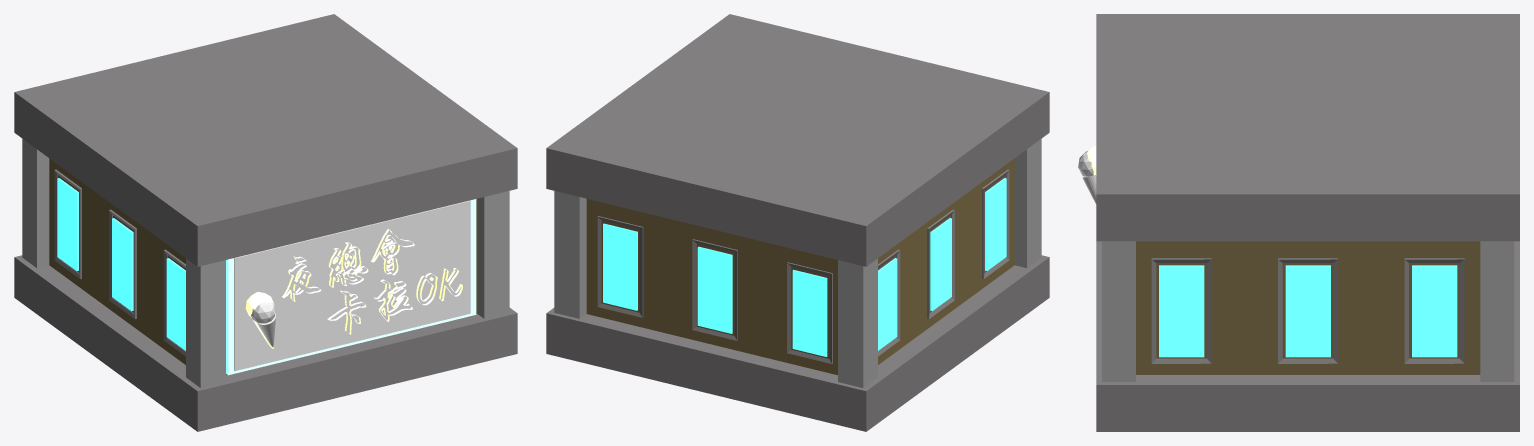
3 views of the same model, side by side, from view 1: azimuth 30°, elevation 25°; view 2: azimuth 150°, elevation 25°; view 3: azimuth 270°, elevation 25° (orthographic). The views are drawn at different scales.
Parts seen in each view (by area): view 1: Cube.014, Cube.013, Cube.004, Cube.002, Cube.016, Cube.015, Text, Cube.017, Cube.005, Cube.010, Cube.012, Cube.011; view 2: Cube.014, Cube.002, Cube.013, Cube.017, Cube, Cube.001, Cube.003, Cube.018, Cube.016, Cube.010, Cube.011, Cube.012; view 3: Cube.014, Cube.002, Cube.013, Cube.007, Cube.008, Cube.009, Cube.018, Cube.015.
Boxes of the visible parts, box(x1,y1,x2,y2) form: Cube.014: box(14, 14, 517, 266); Cube.013: box(14, 255, 517, 431); Cube.004: box(234, 200, 470, 370); Cube.002: box(49, 158, 477, 375); Cube.016: box(186, 258, 225, 387); Cube.015: box(477, 191, 509, 318); Text: box(282, 229, 462, 334); Cube.017: box(22, 139, 49, 268); Cube.005: box(226, 199, 476, 375); Cube.010: box(109, 209, 136, 319); Cube.012: box(54, 169, 81, 279); Cube.011: box(163, 249, 185, 356); Cube.014: box(546, 14, 1049, 266); Cube.002: box(586, 158, 1014, 375); Cube.013: box(546, 255, 1049, 431); Cube.017: box(838, 258, 877, 387); Cube: box(597, 216, 643, 317); Cube.001: box(787, 262, 832, 363); Cube.003: box(692, 239, 737, 340); Cube.018: box(554, 191, 586, 318); Cube.016: box(1014, 139, 1041, 268); Cube.010: box(927, 209, 954, 319); Cube.011: box(982, 169, 1009, 279); Cube.012: box(878, 249, 900, 356); Cube.014: box(1096, 14, 1519, 241); Cube.002: box(1136, 241, 1480, 374); Cube.013: box(1096, 241, 1519, 431); Cube.007: box(1151, 258, 1211, 363); Cube.008: box(1404, 258, 1464, 363); Cube.009: box(1278, 258, 1337, 363); Cube.018: box(1480, 241, 1514, 381); Cube.015: box(1102, 241, 1135, 381).
Bounding box in the file's own units: 13.28 × 8.16 × 13.74.
